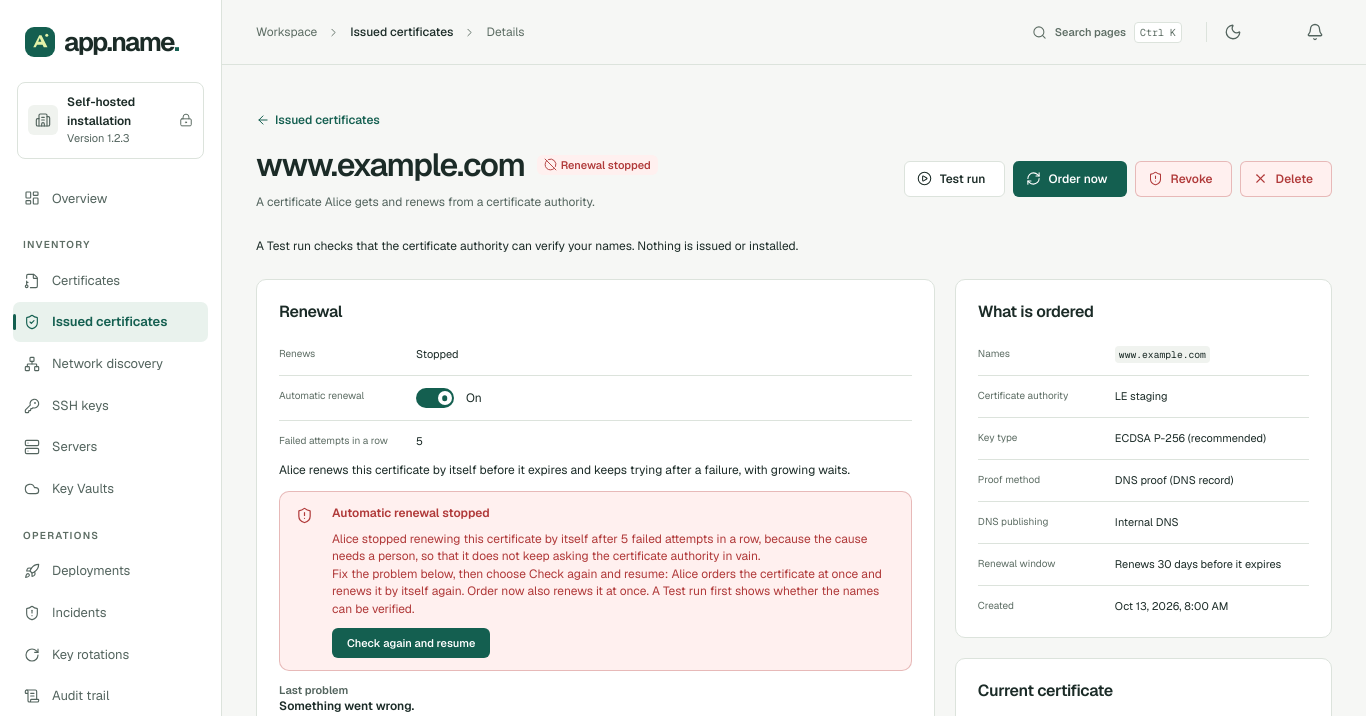
Test: Issued certificate status page › lets an Administrator resume a stopped certificate (Check again and resume) after a fresh step-up, and reads it again
The width and height of the screenshot is (1366, 716).
expect the element with test id "stopped" shows "Automatic renewal stopped": met, box x1=332 y1=506 x2=490 y2=522
expect the element with test id "stopped" shows "after 5 failed attempts in a row": met, box x1=332 y1=531 x2=867 y2=564
Click the button "Check again and resume" at (411, 643), box x1=332 y1=628 x2=490 y2=658
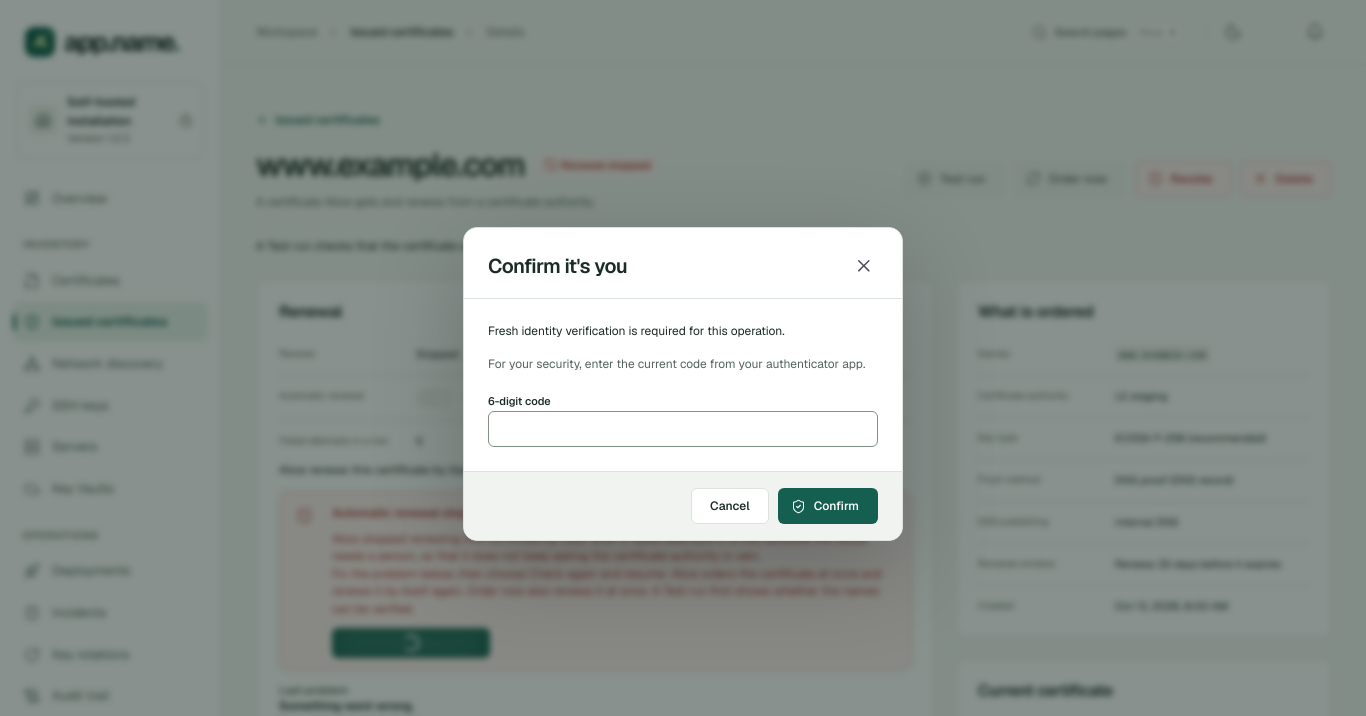
Type "123456" into the field labelled "6-digit code" at (683, 429), box x1=488 y1=411 x2=878 y2=447
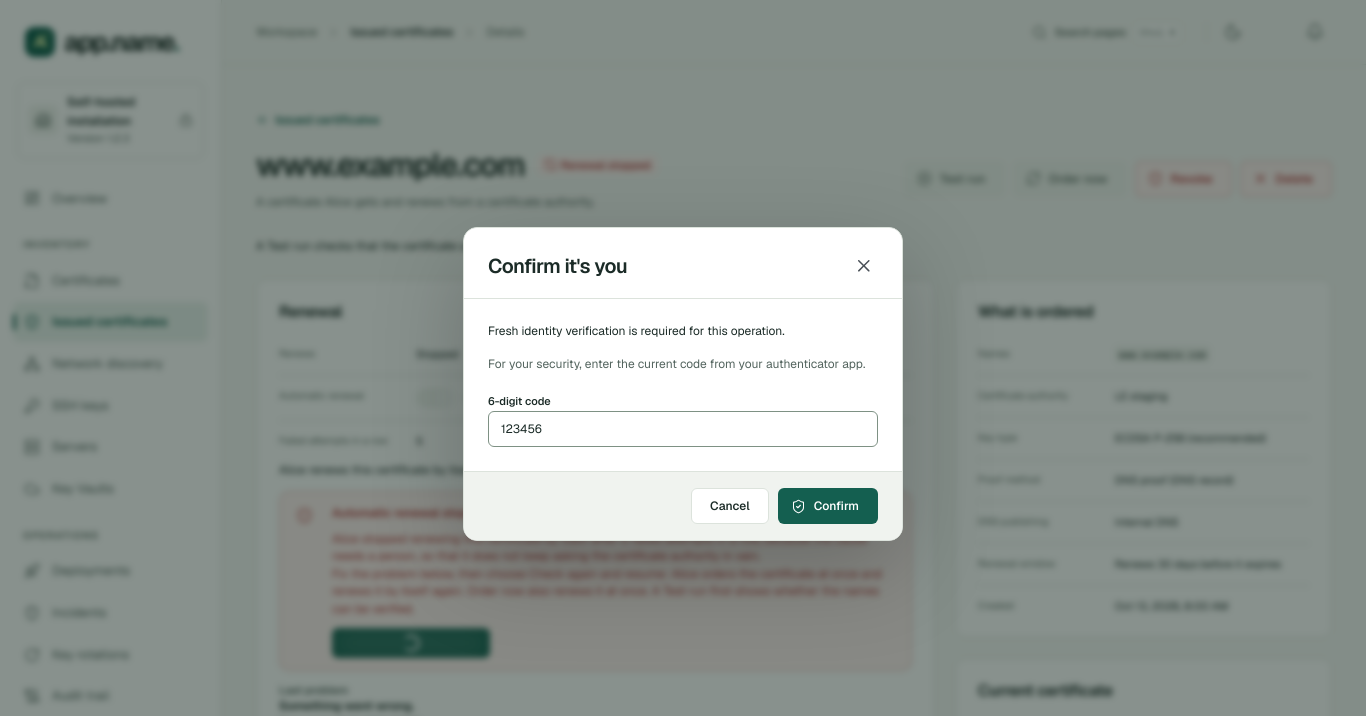
Click the button "Confirm" at (828, 506), box x1=778 y1=488 x2=878 y2=524
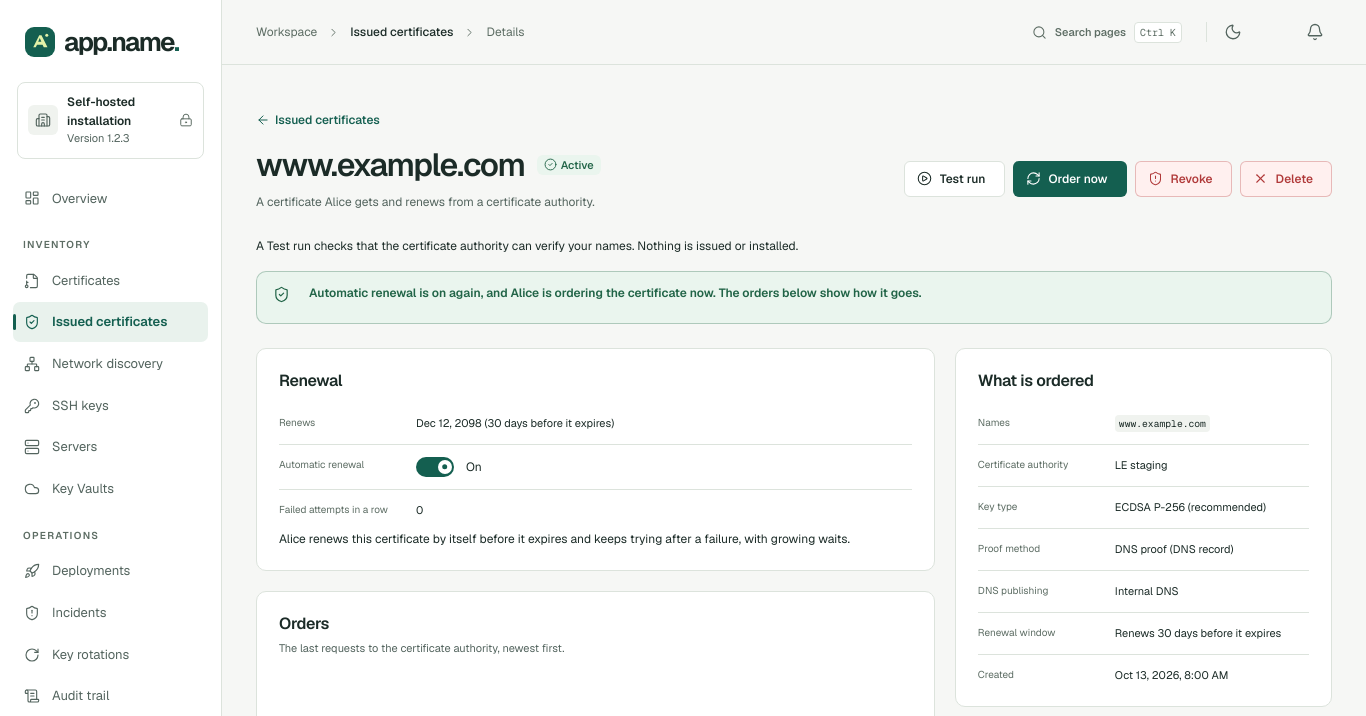
expect the text "Automatic renewal is on again, and Alice is ordering the certificate now." is shown: met, box x1=309 y1=285 x2=922 y2=301
expect the element with test id "stopped" is gone: met
